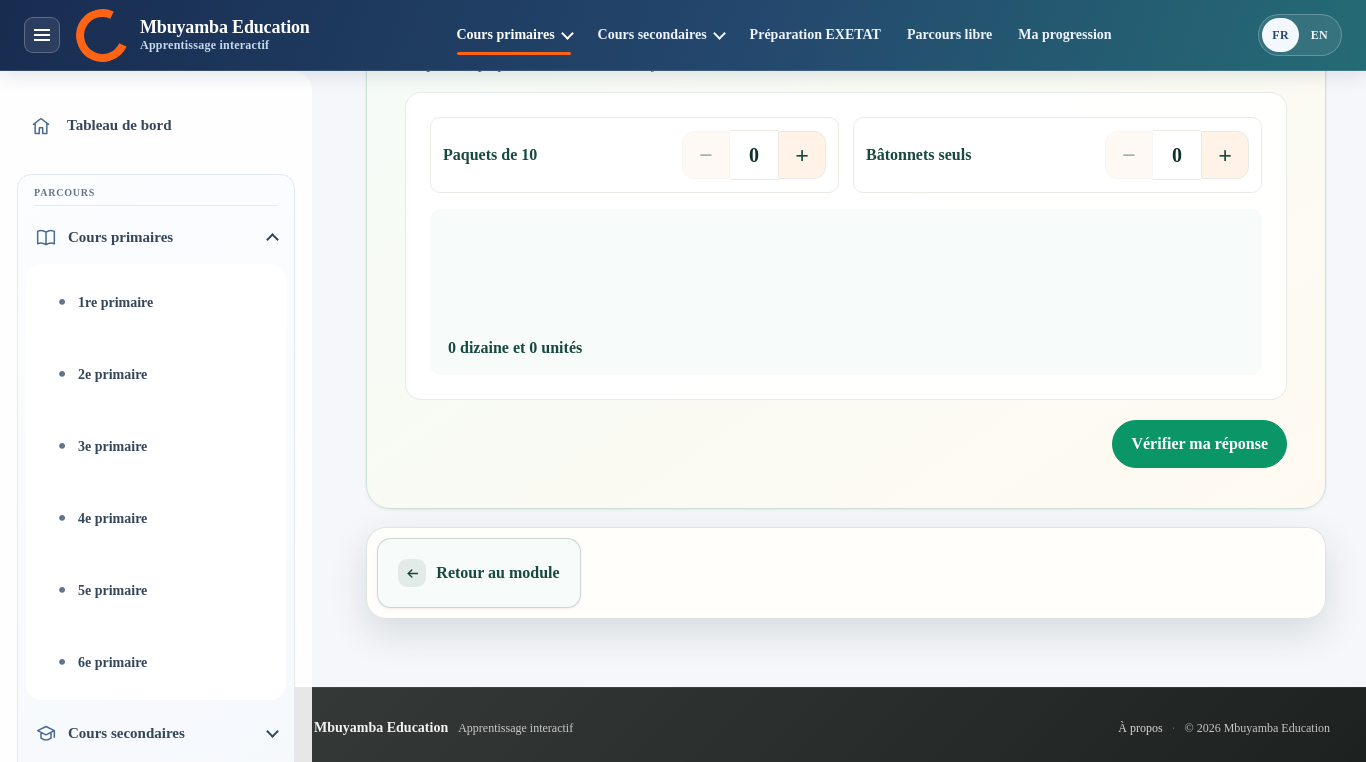
Test: Pages du parcours de 2e primaire › reprend Je manipule et refuse une composition vide de 17
The width and height of the screenshot is (1366, 762).
(page scrolled)
Click the button "Vérifier ma réponse".
click(1200, 444)  # box [1112,420,1287,468]
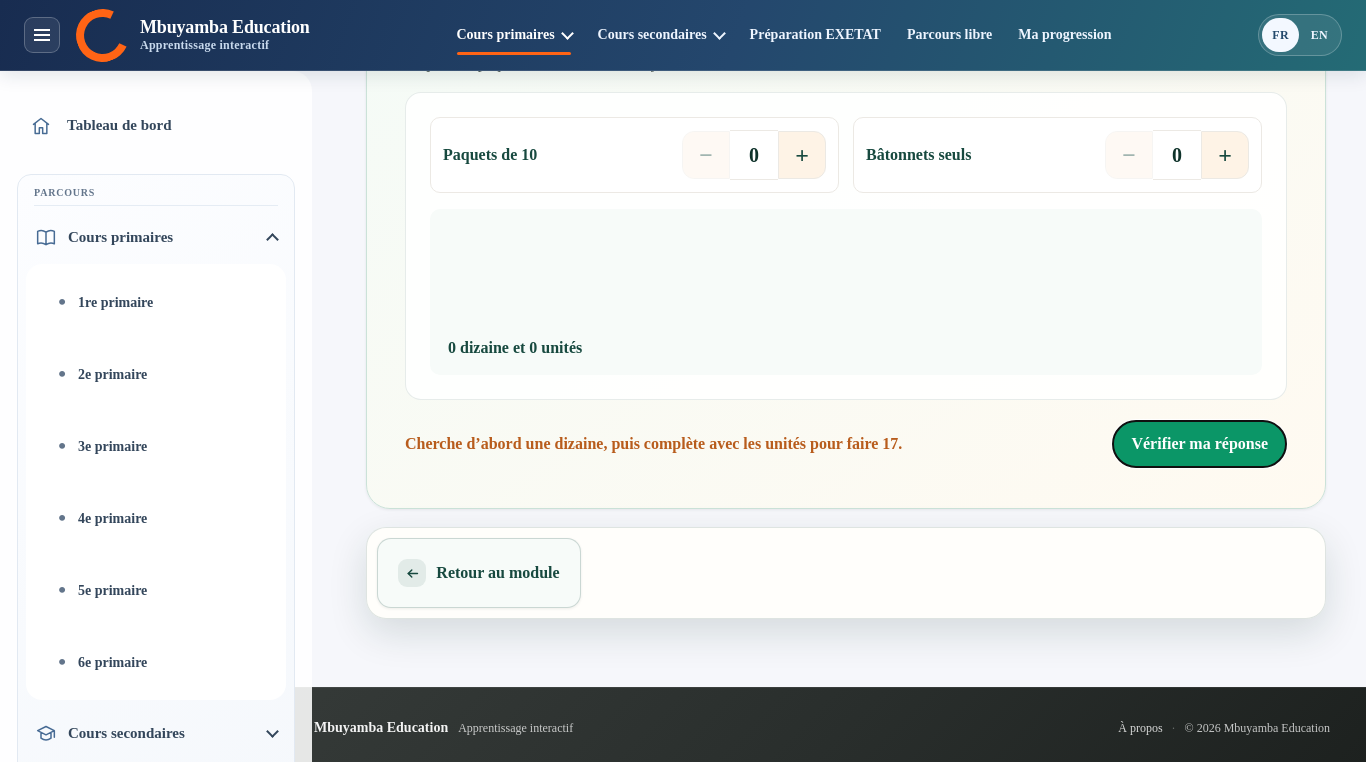
Expected: the text "Cherche d’abord une dizaine" is shown, [405,435,902,452]
